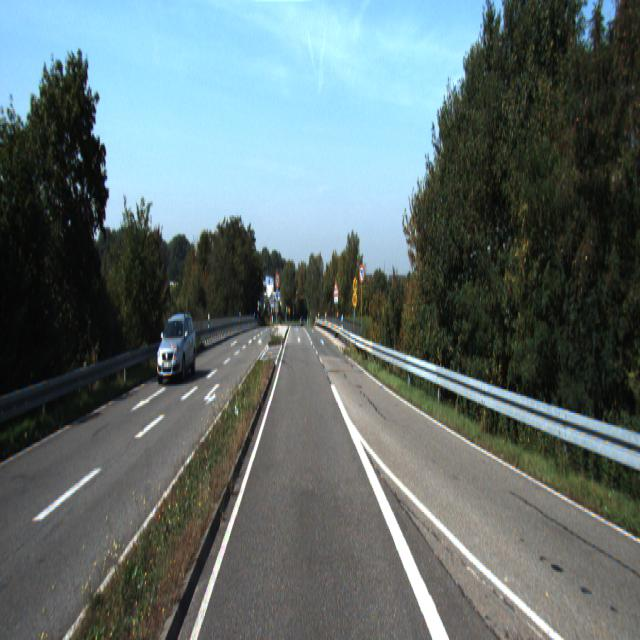Car: (152, 311, 198, 382)
